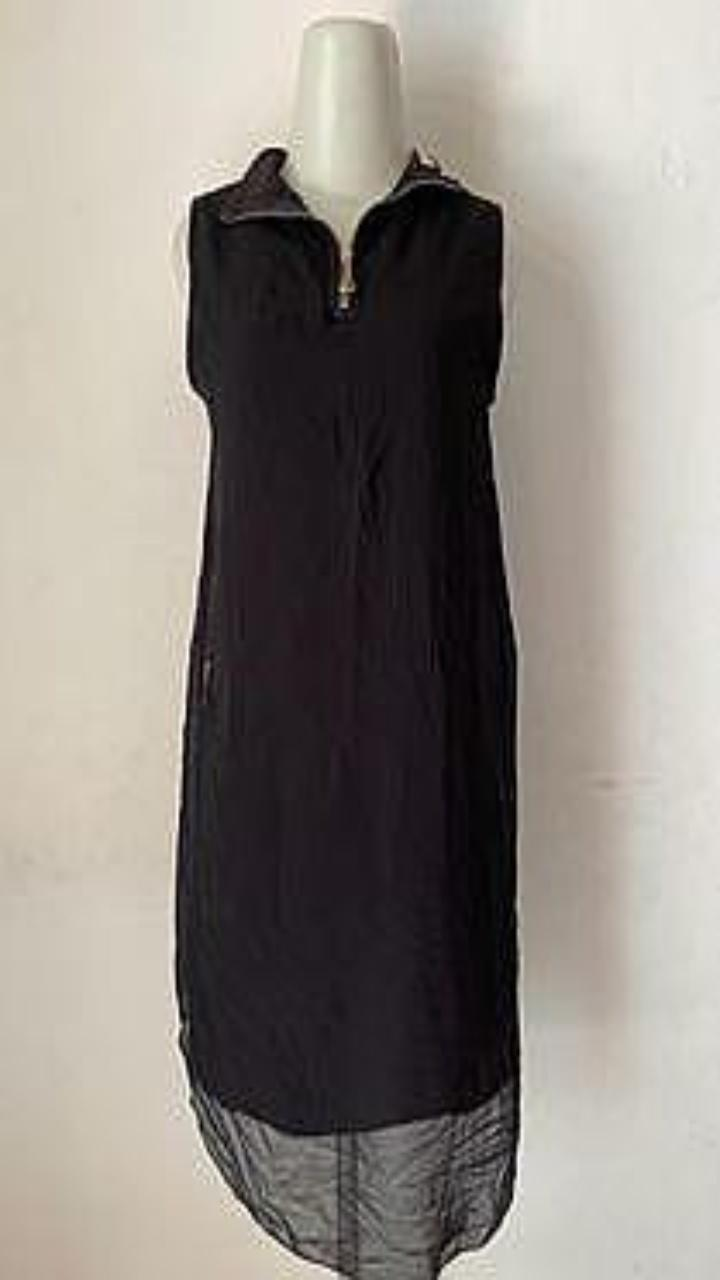Dresses: (175, 147, 519, 1279)
